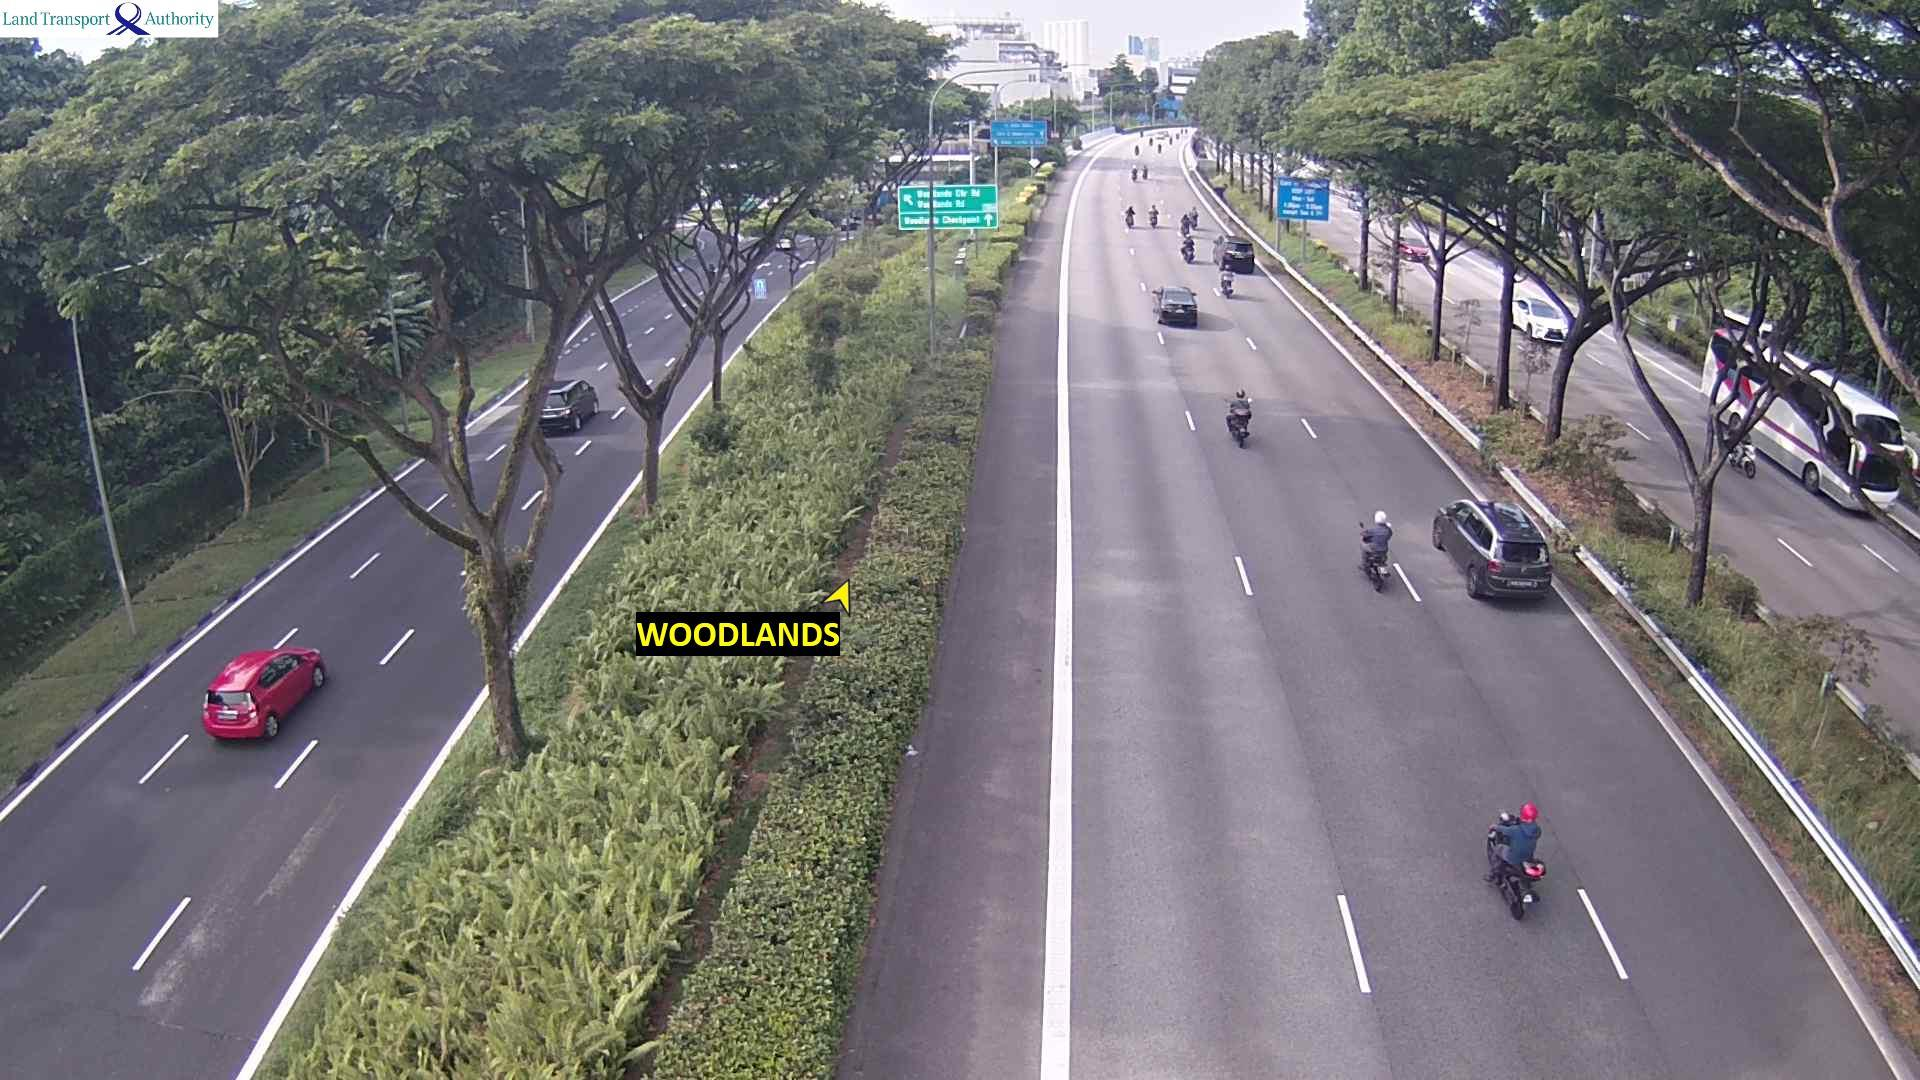bus: (1698, 320, 1911, 516)
cars: (1431, 496, 1552, 601), (200, 644, 326, 741), (535, 378, 597, 434), (1510, 294, 1575, 345), (1153, 284, 1197, 326), (1212, 233, 1254, 273), (1396, 236, 1429, 261)
motorcycle: (1484, 825, 1545, 920), (1722, 427, 1763, 480), (1360, 545, 1390, 593), (1225, 402, 1251, 447), (1218, 269, 1234, 297), (1180, 235, 1196, 262), (1146, 204, 1162, 232), (1125, 206, 1138, 227), (1180, 215, 1192, 236), (1189, 207, 1201, 228), (1141, 166, 1151, 179), (1131, 166, 1139, 181), (1156, 142, 1164, 156), (1133, 145, 1141, 157), (1138, 129, 1146, 140), (1168, 136, 1174, 145), (1175, 132, 1180, 141), (1149, 138, 1154, 144)
trucks: (1154, 129, 1166, 140)
